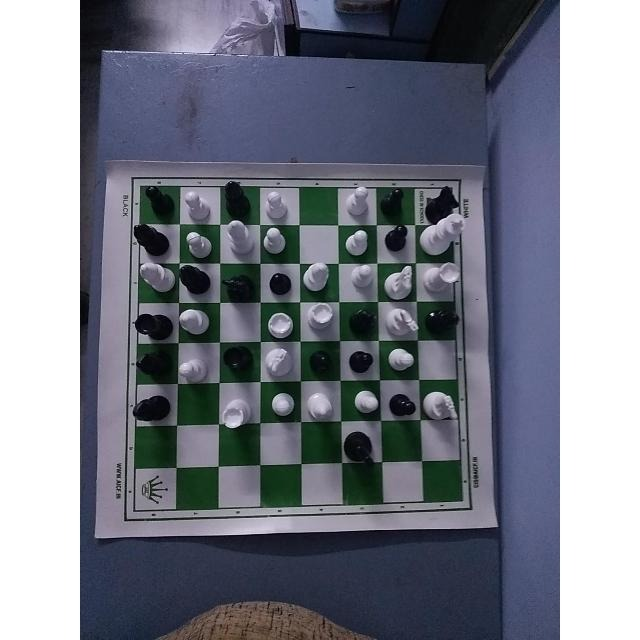black-bishop: (128, 390, 172, 429), (131, 344, 173, 384), (131, 216, 173, 255), (223, 173, 255, 223), (342, 302, 380, 340), (422, 306, 462, 338), (175, 263, 211, 297)
black-knight: (340, 426, 380, 471), (423, 183, 463, 223), (222, 261, 257, 302)
black-pawn: (140, 181, 176, 220), (379, 183, 415, 220), (260, 265, 296, 301), (308, 345, 340, 384), (385, 391, 420, 423), (342, 348, 380, 376), (379, 223, 412, 253)
black-rook: (132, 309, 174, 345), (220, 341, 258, 375)
white-bishop: (299, 255, 332, 299), (299, 388, 338, 424), (134, 261, 175, 295), (222, 218, 254, 258), (175, 305, 210, 335)
white-king: (420, 212, 467, 255)
white-knight: (421, 387, 464, 425), (263, 343, 299, 385), (382, 265, 416, 303), (385, 309, 419, 341)
white-pawn: (183, 222, 223, 261), (342, 181, 374, 218), (259, 186, 291, 222), (185, 188, 217, 222), (177, 355, 211, 387), (385, 346, 418, 377), (355, 387, 385, 420), (261, 224, 292, 255), (343, 227, 371, 260), (271, 392, 298, 423), (350, 260, 374, 289)
white-rook: (300, 301, 338, 336), (424, 262, 462, 296), (217, 394, 251, 430), (262, 309, 294, 339)
